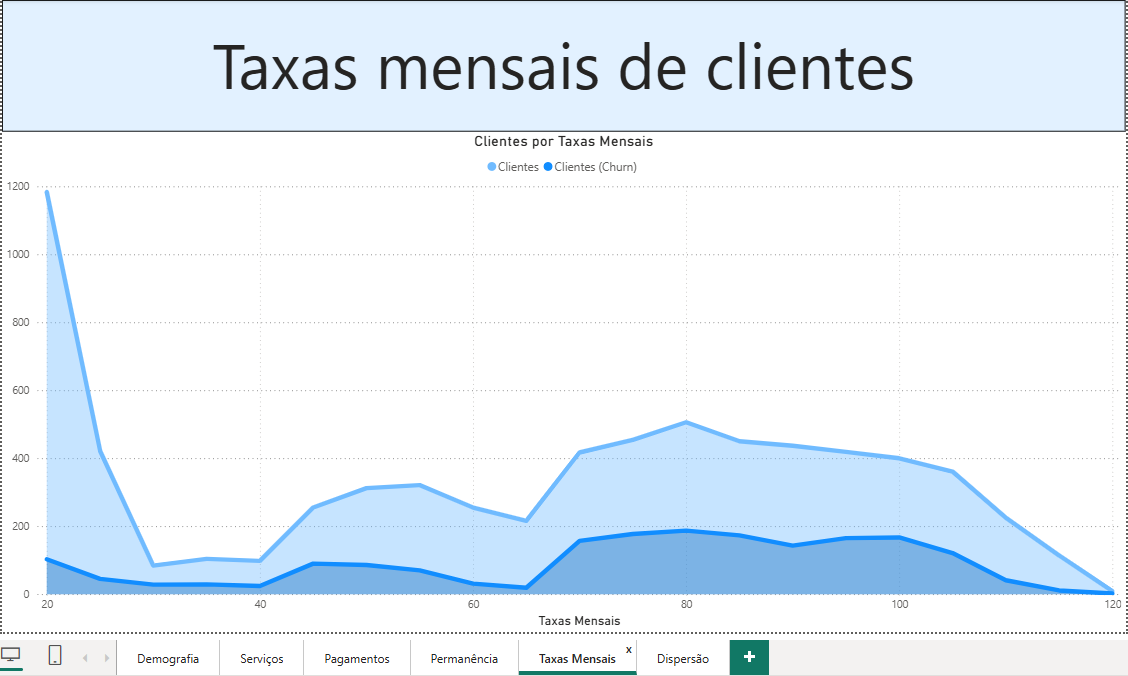

The dashboard page shown, as its layout file describes it:
{"tool":"powerbi","page":{"name":"Taxas Mensais","canvas":[1280,720],"ordinal":4},"visuals":[{"type":"areaChart","title":"Clientes por Taxas Mensais","fields":{"Category":["WA_Fn-UseC_-Telco-Customer-Churn.MonthlyRange5"],"Y":["CountNonNull(WA_Fn-UseC_-Telco-Customer-Churn.MonthlyRange5)","Sum(WA_Fn-UseC_-Telco-Customer-Churn.Churn)"]},"box":[0,150.4,1280,569.9],"z":0},{"type":"textbox","box":[0,0,1280,150.4],"z":1000}]}

Visuals, with their boxes on the page's 1280x720 design canvas (x1, y1, x2, y2). These are canvas units, not pixel positions in the 1128x676 screenshot, which may show the page scaled, cropped or inside an application window:
"Clientes por Taxas Mensais" areaChart: Rect(0, 150, 1280, 720)
textbox: Rect(0, 0, 1280, 150)
